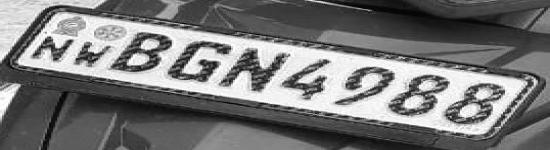4: (279, 57, 333, 100)
8: (441, 81, 508, 125), (387, 73, 452, 115)
9: (328, 63, 396, 108)
B: (112, 30, 171, 73)
G: (170, 36, 232, 83)
N: (220, 44, 293, 93), (29, 36, 73, 63)
W: (71, 40, 113, 66)
